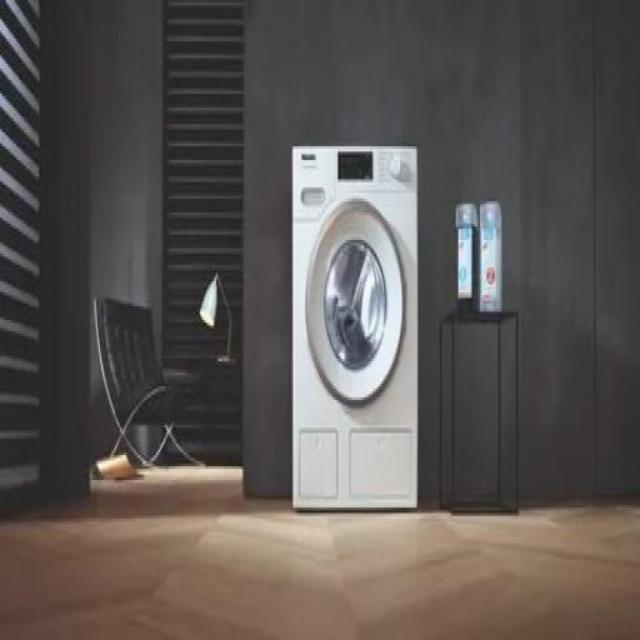Washing-Machine: (292, 144, 418, 508)
